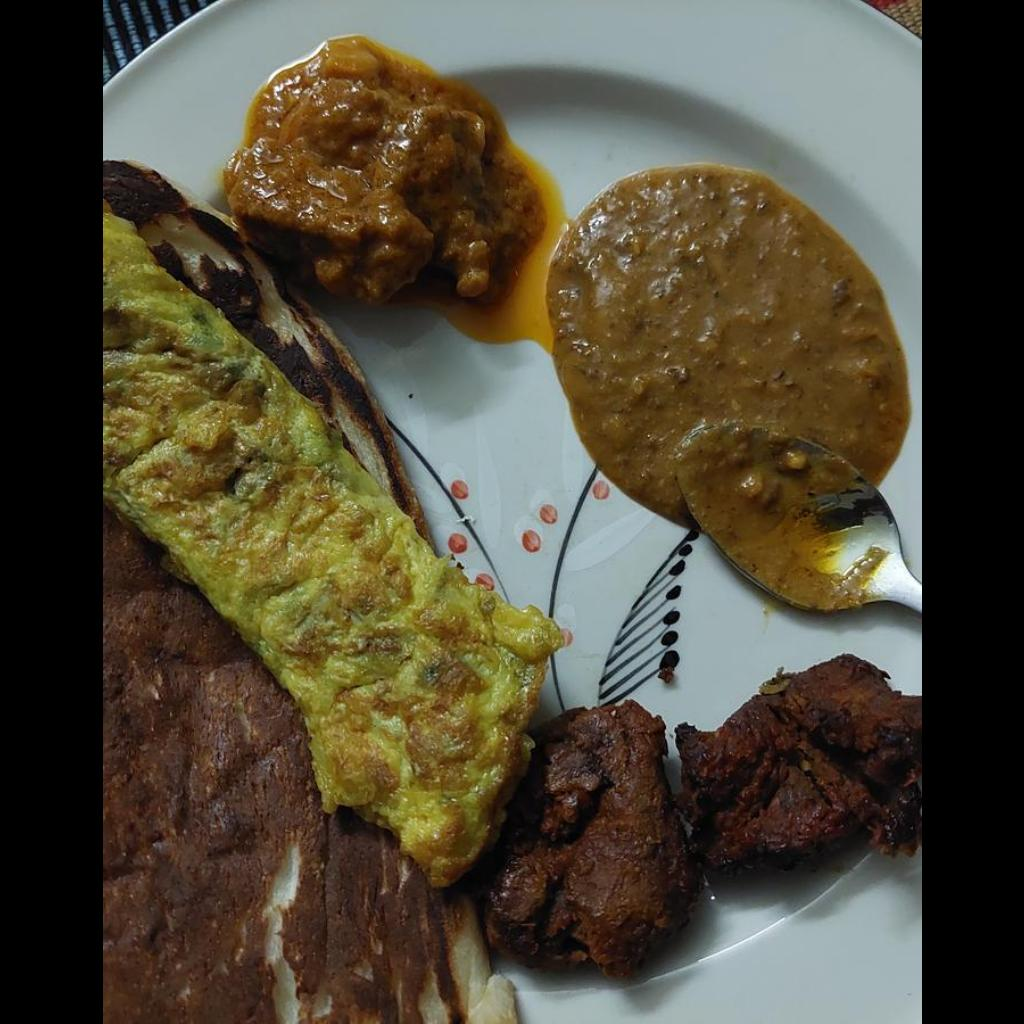achar: (554, 177, 899, 521)
beef: (225, 45, 509, 295)
chicken: (487, 658, 920, 974)
egg-poached: (102, 205, 554, 877)
ruti: (102, 497, 518, 1023)
